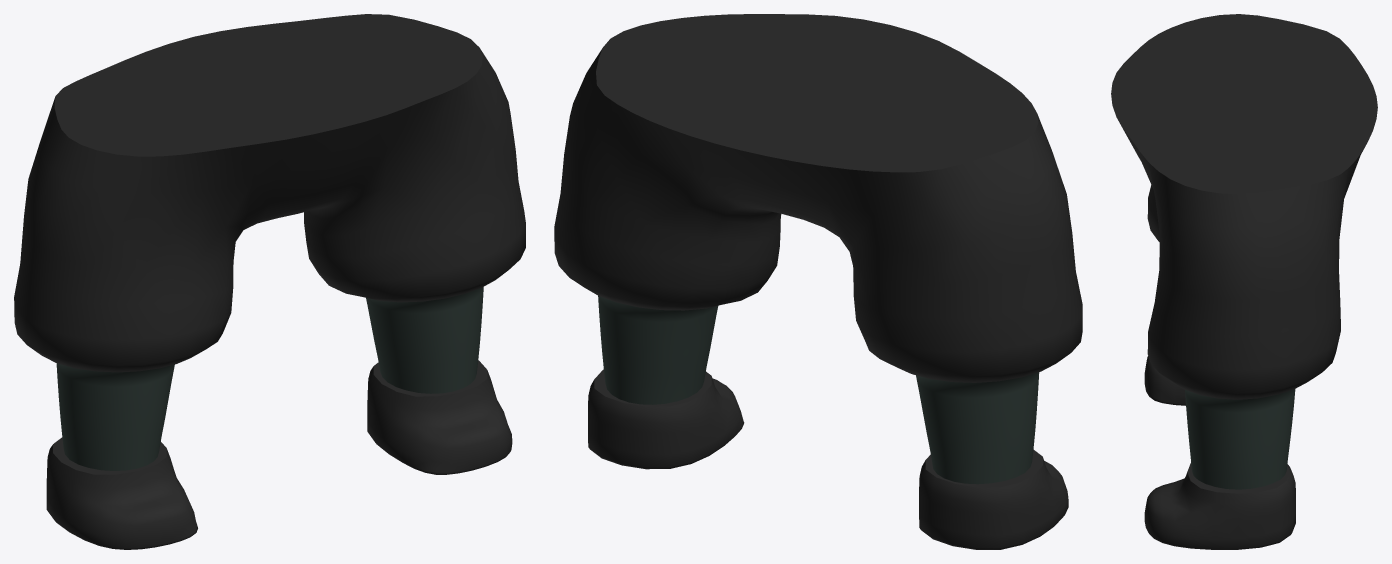
Rendered from 15忍者裤.fbx.
3 views of the same model, side by side, from view 1: azimuth 30°, elevation 25°; view 2: azimuth 150°, elevation 25°; view 3: azimuth 270°, elevation 25° (orthographic). The views are drawn at different scales.
Visible parts, largest first — view 1: 15忍者裤; view 2: 15忍者裤; view 3: 15忍者裤.
Part boxes in pixels (left/top/right/bottom): 15忍者裤: left=14, top=14, right=525, bottom=549; 15忍者裤: left=554, top=14, right=1082, bottom=549; 15忍者裤: left=1111, top=14, right=1377, bottom=549.
Size of the model in its own units: 0.7115 by 0.5476 by 0.3667.
